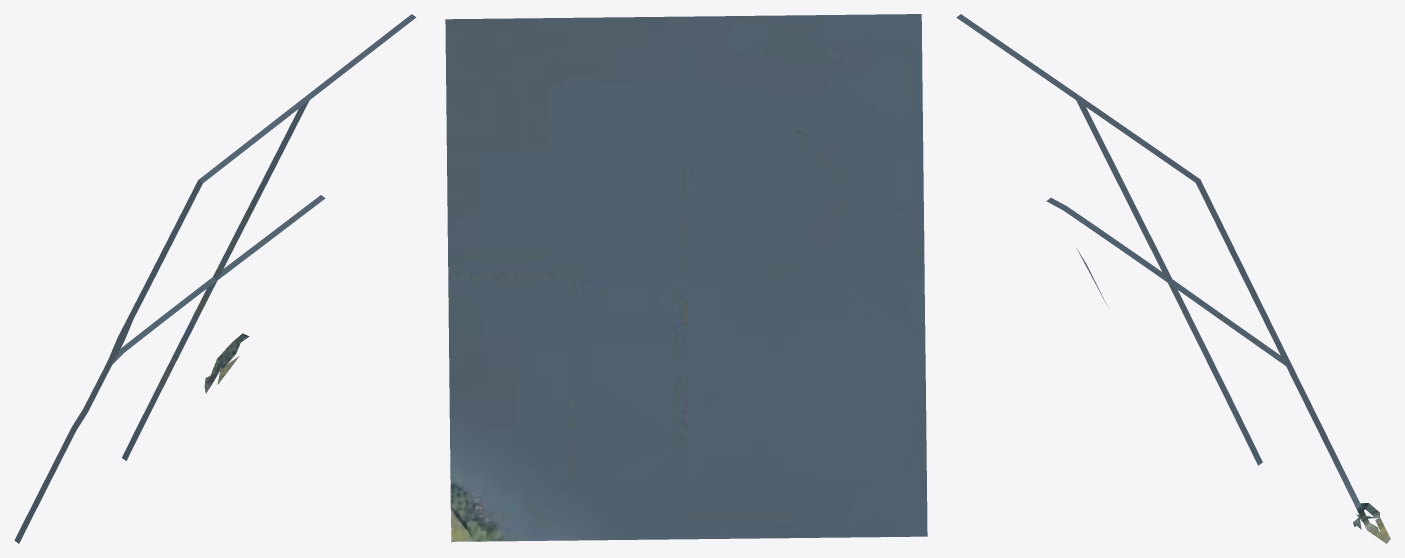
3 renders of one model, left to right at view 1: azimuth 30°, elevation 25°; view 2: azimuth 150°, elevation 25°; view 3: azimuth 270°, elevation 25°, orthographic. The views are drawn at different scales.
Size of the model in its own units: 153 by 139 by 131.
1 material, 1 textured.
